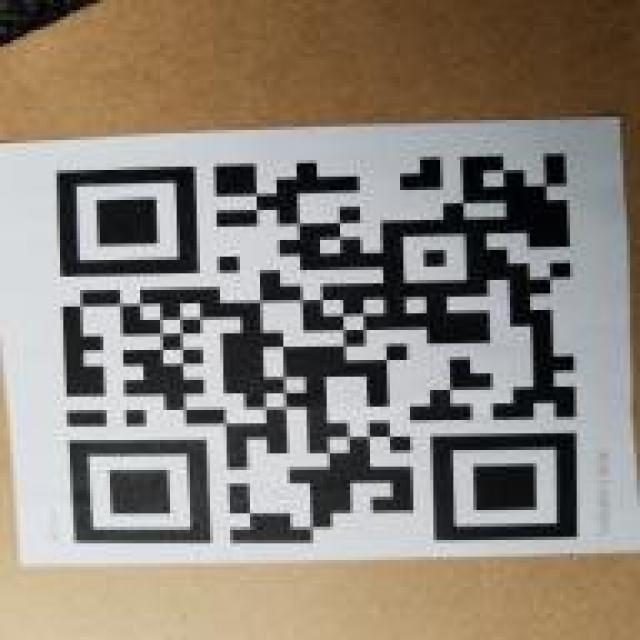qr_code: (57, 151, 578, 544)
